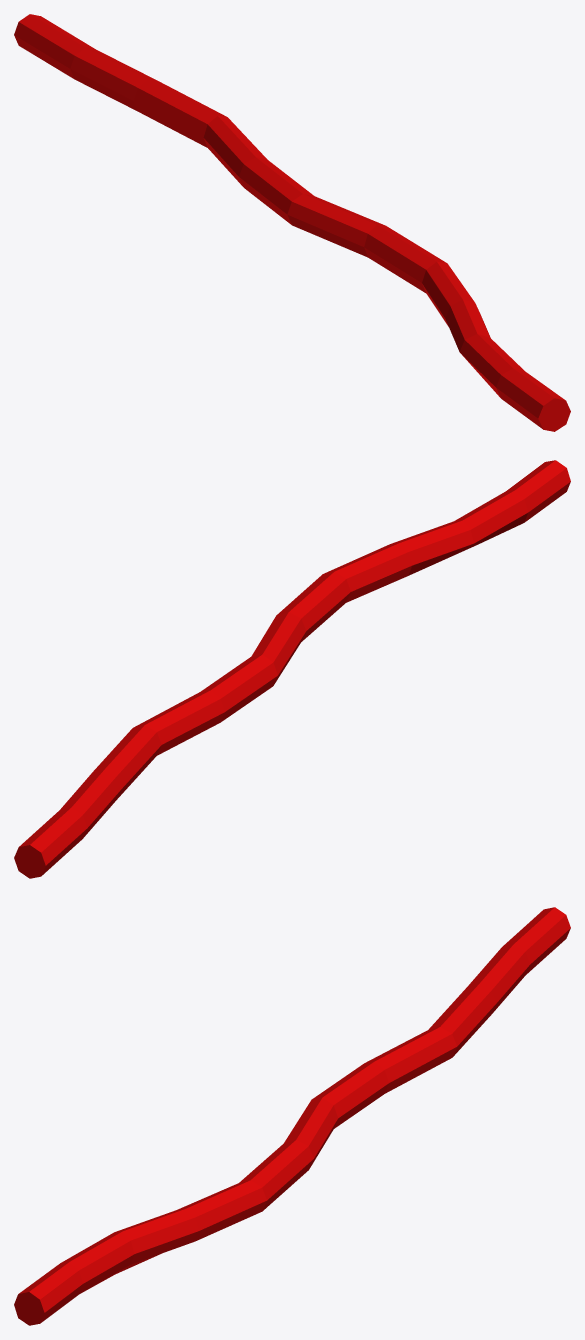
The model's file is WireS_1.fbx.
The picture shows the model from 3 angles, top to bottom: view 1: azimuth 30°, elevation 25°; view 2: azimuth 150°, elevation 25°; view 3: azimuth 330°, elevation 25°; orthographic projection.
Visible parts, largest first — view 1: WireS_1; view 2: WireS_1; view 3: WireS_1.
Part boxes in pixels (<box>): WireS_1: <box>14,14,570,431</box>; WireS_1: <box>14,460,570,878</box>; WireS_1: <box>14,907,570,1325</box>.
Size of the model in its own units: 0.000916 by 0.000356 by 0.01.
